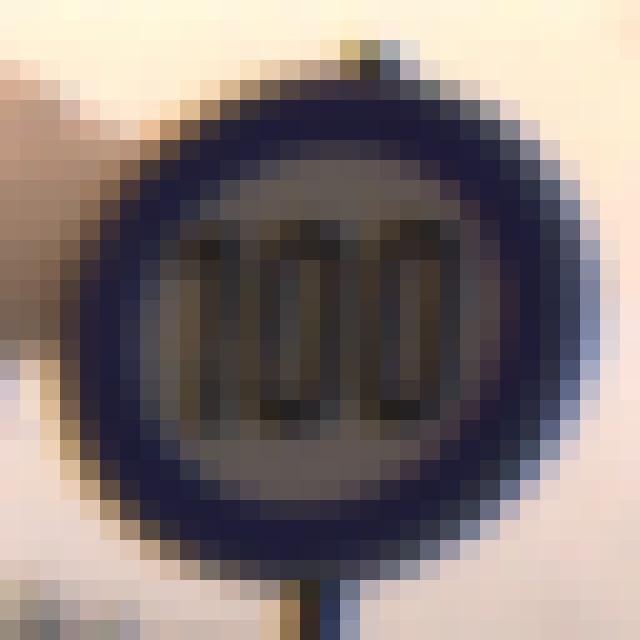SPEED LIMIT 100: (85, 79, 589, 571)
